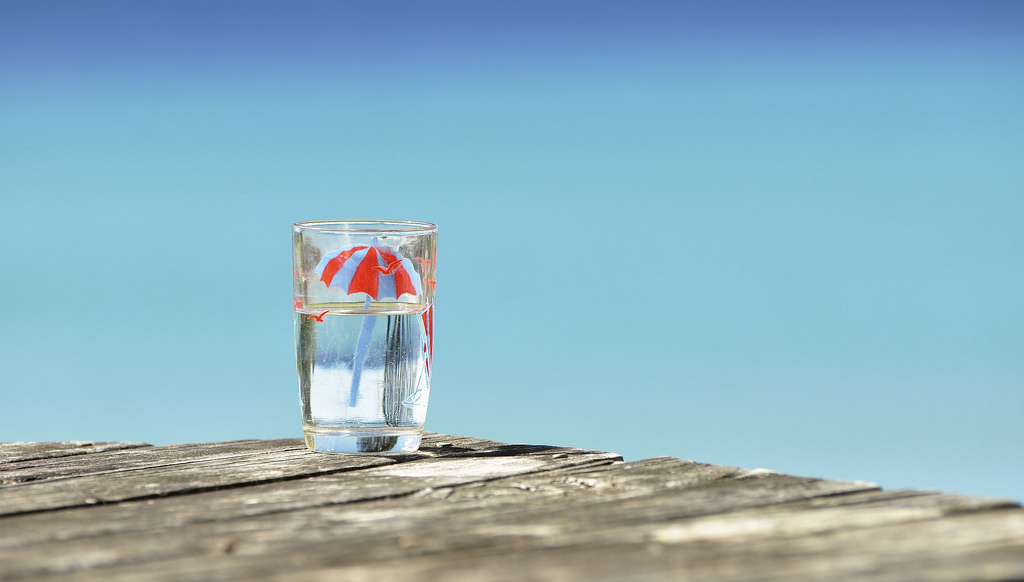glass of water: (282, 210, 449, 462)
